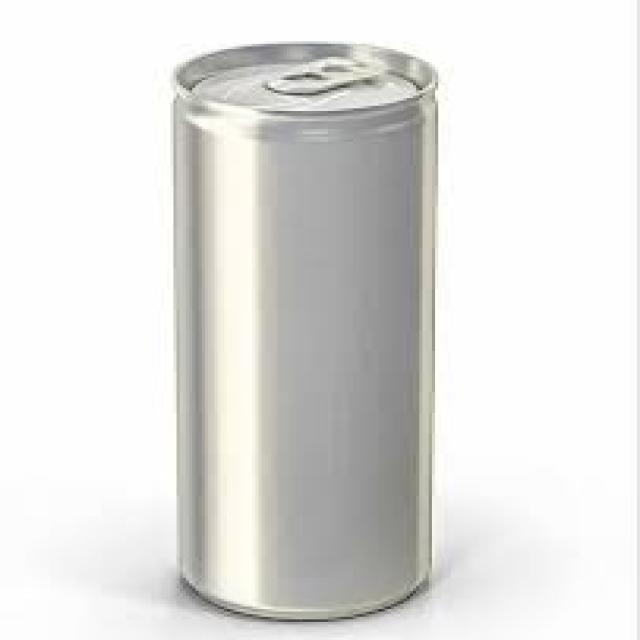Cans: (154, 34, 454, 627)
